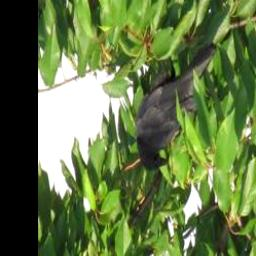Crow: (134, 43, 218, 172)
